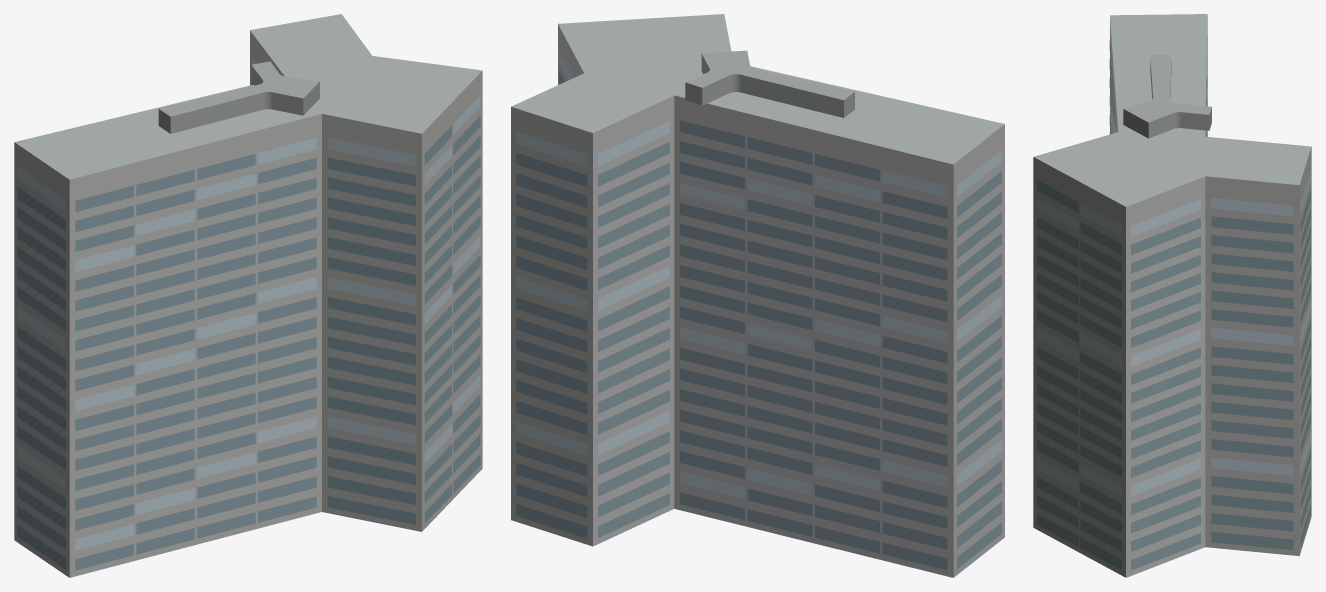
File: fallback-godeok-ipark-102.glb
3 renders of one model, left to right at view 1: azimuth 30°, elevation 25°; view 2: azimuth 150°, elevation 25°; view 3: azimuth 270°, elevation 25°, orthographic. The views are drawn at different scales.
Visible parts, largest first — view 1: fallback-godeok-ipark-102; view 2: fallback-godeok-ipark-102; view 3: fallback-godeok-ipark-102.
Part boxes in pixels (left/top/right/bottom): fallback-godeok-ipark-102: left=14, top=14, right=482, bottom=577; fallback-godeok-ipark-102: left=511, top=14, right=1004, bottom=577; fallback-godeok-ipark-102: left=1033, top=14, right=1311, bottom=577.
Size of the model in its own units: 62.07 by 58 by 37.77.
